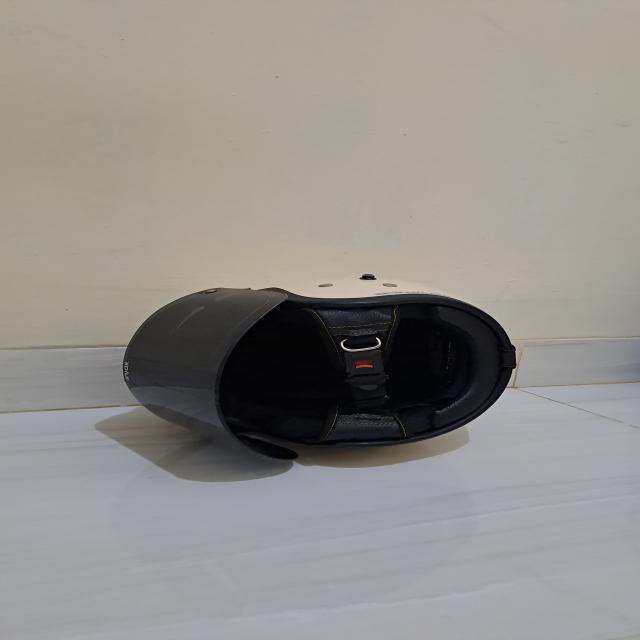Helm: (115, 259, 527, 472)
